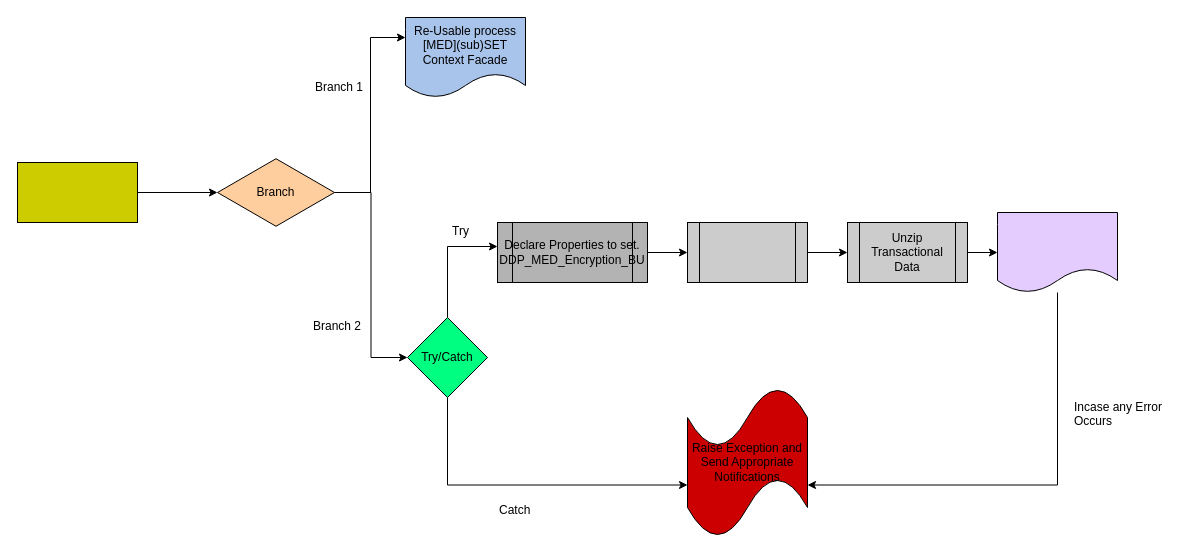
Some shapes in this 1200 by 555 pixel diagram are drawn without their labels. The shapes that lost their labels are listed below. From the top down, each one's box as (x1, y1, x2, y2) in pixels, then its label:
(16, 162, 138, 222): Listener
(686, 222, 808, 282): Decrypt the Document
(996, 212, 1118, 292): Send File to Navision
